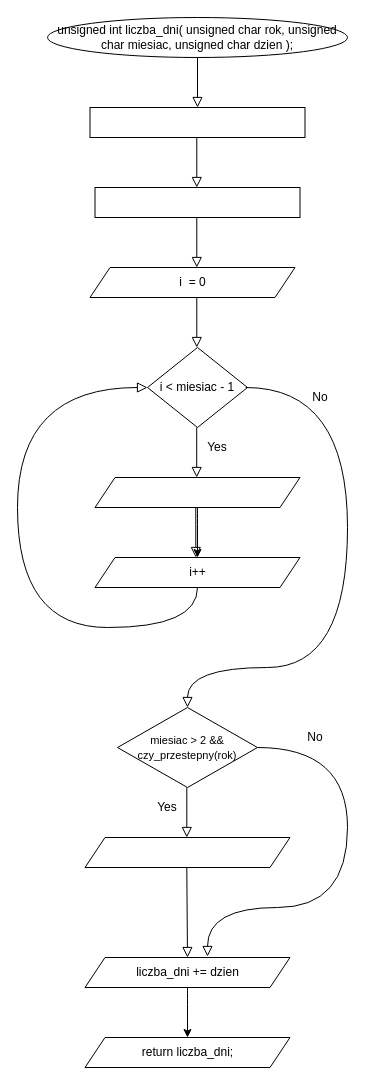
Some shapes in this 365 by 1085 pixel diagram are drawn without their labels. Here are the shapes that lost their labels. From the top down, the centre of each, then its label:
pixel 197 122: unsigned int miesiace[] {31,28,31,30,31,30,31,31,30,31,30,31};
pixel 197 202: unsigned int liczba_dni = 0;
pixel 197 492: liczba_dni += miesiace[ i ];
pixel 187 852: liczba_dni++
